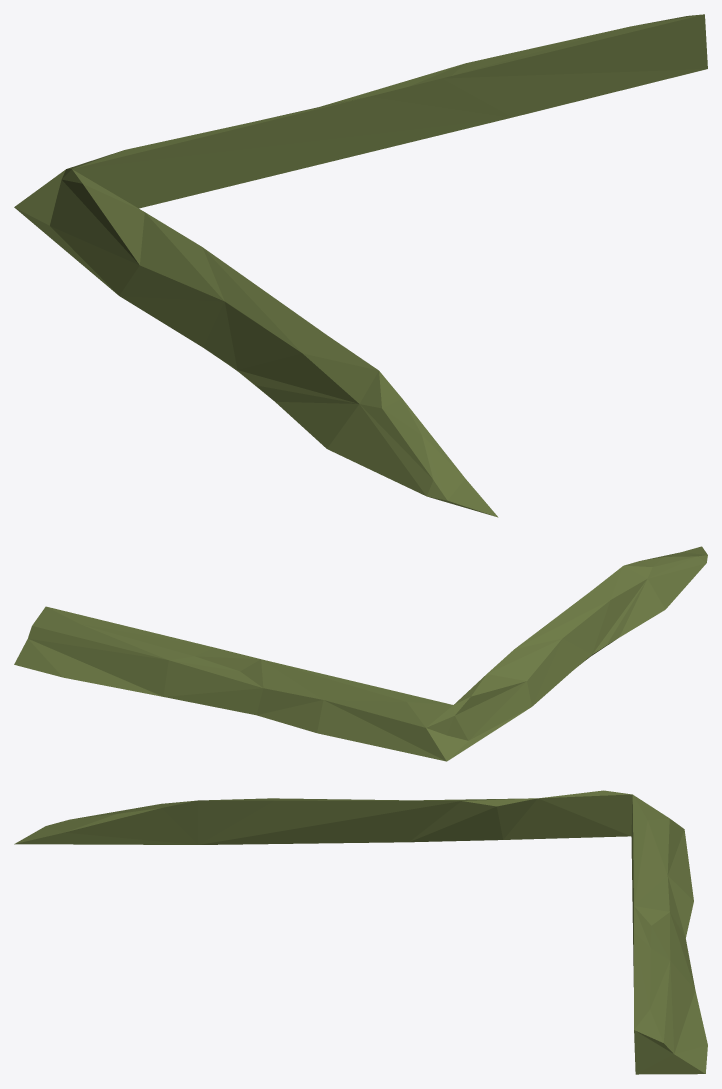
File: ground_53.fbx
The picture shows the model from 3 angles, top to bottom: view 1: azimuth 30°, elevation 25°; view 2: azimuth 150°, elevation 25°; view 3: azimuth 270°, elevation 25°; orthographic projection. The views are drawn at different scales.
Parts seen in each view (by area): view 1: ground_53; view 2: ground_53; view 3: ground_53.
Boxes of the visible parts, left/top/right/bottom form: ground_53: left=14, top=14, right=707, bottom=517; ground_53: left=14, top=546, right=707, bottom=761; ground_53: left=14, top=790, right=707, bottom=1074.
Size of the model in its own units: 7.28 by 0.6163 by 8.52.
